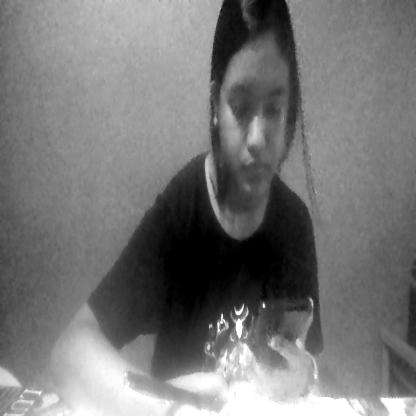Distracted: (210, 25, 298, 200)
